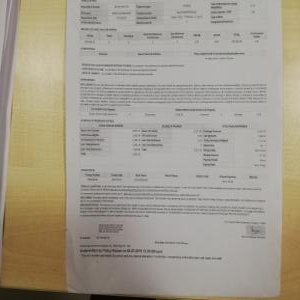table: (80, 121, 267, 169), (81, 28, 268, 47), (81, 168, 265, 186)
text: (79, 187, 268, 220), (80, 80, 266, 106), (80, 60, 187, 79)
